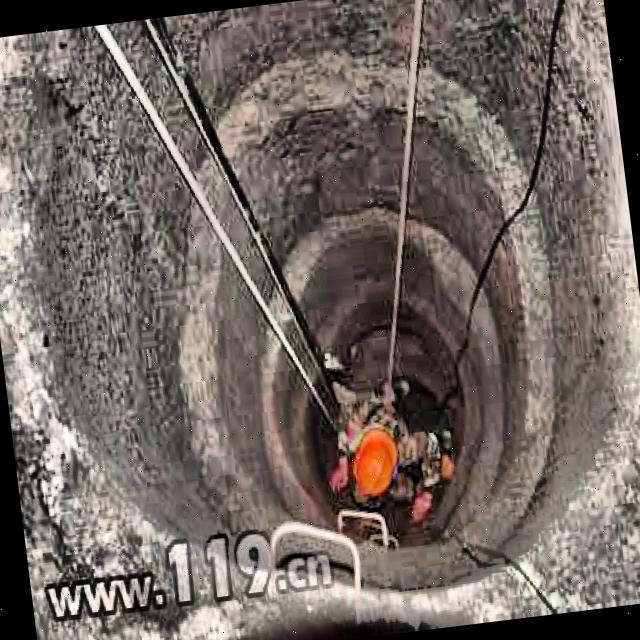helmet: (345, 428, 403, 504)
